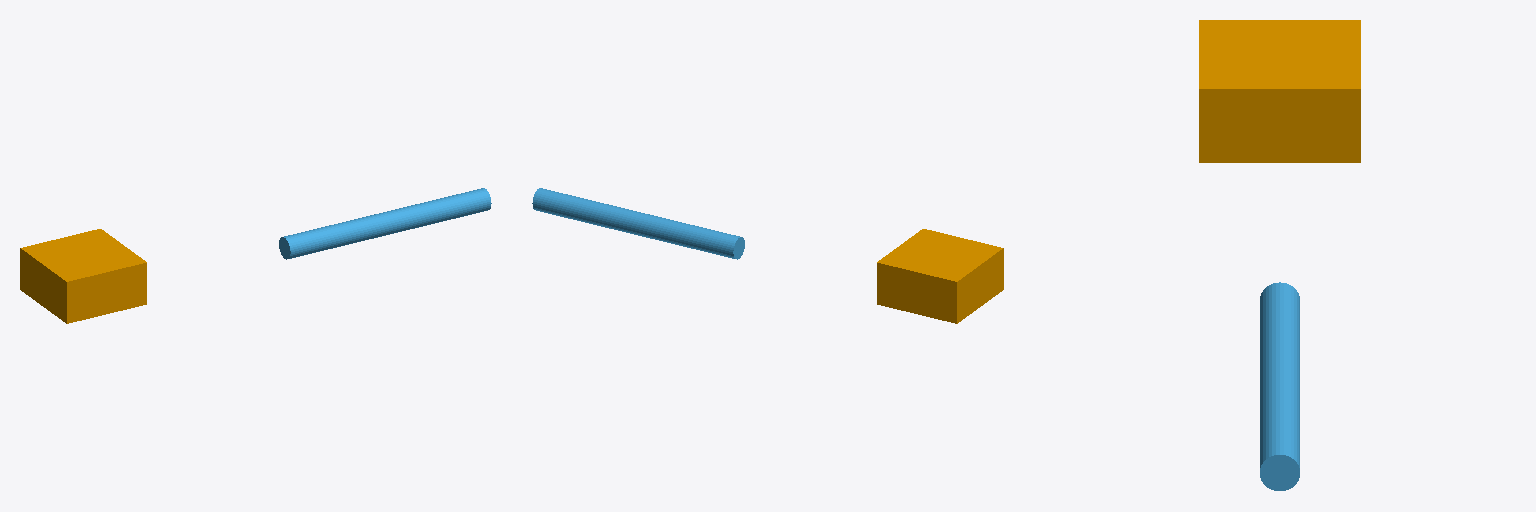
The robot description file, URDF, robot "two_dof_demo":
<?xml version="1.0"?>
<robot name="two_dof_demo">
  <link name="base_link">
    <visual name="base_visual">
      <origin xyz="0 0 0.1" rpy="0 0 0"/>
      <geometry><box size="0.4 0.4 0.2"/></geometry>
    </visual>
    <collision name="base_collision">
      <origin xyz="0 0 0.1" rpy="0 0 0"/>
      <geometry><box size="0.4 0.4 0.2"/></geometry>
    </collision>
  </link>
  <link name="arm_link">
    <inertial>
      <origin xyz="0.5 0 0" rpy="0 0 0"/>
      <mass value="2.0"/>
      <inertia ixx="0.1" ixy="0" ixz="0" iyy="0.2" iyz="0" izz="0.2"/>
    </inertial>
    <visual>
      <origin xyz="0.5 0 0" rpy="0 1.5707963267948966 0"/>
      <geometry><cylinder radius="0.05" length="1.0"/></geometry>
    </visual>
  </link>
  <link name="slider_link">
    <collision>
      <origin xyz="0.1 0 0" rpy="0 0 0"/>
      <geometry><mesh filename="package://demo/slider.stl" scale="1 1 1"/></geometry>
    </collision>
  </link>
  <link name="tool0"/>
  <joint name="shoulder" type="revolute">
    <parent link="base_link"/>
    <child link="arm_link"/>
    <origin xyz="1 0 0" rpy="0 0 0"/>
    <axis xyz="0 0 1"/>
    <limit lower="-3.141592653589793" upper="3.141592653589793" effort="20" velocity="2"/>
  </joint>
  <joint name="slide" type="prismatic">
    <parent link="arm_link"/>
    <child link="slider_link"/>
    <origin xyz="1 0 0" rpy="0 0 0"/>
    <axis xyz="1 0 0"/>
    <limit lower="0" upper="1" effort="10" velocity="1"/>
  </joint>
  <joint name="tool_mount" type="fixed">
    <parent link="slider_link"/>
    <child link="tool0"/>
    <origin xyz="0 0 0.2" rpy="0 0 0"/>
  </joint>
</robot>

--- What the picture shows (computed from the rendered views, not written in the file) ---
The picture shows the robot from 3 angles, left to right: view 1: azimuth 30°, elevation 25°; view 2: azimuth 150°, elevation 25°; view 3: azimuth 270°, elevation 25°; orthographic projection.
Robot: two_dof_demo — 4 links, 3 joints (1 revolute, 1 prismatic, 1 fixed); root link base_link; default pose: every joint at zero.
Links seen in each view (by area): view 1: base_link, arm_link; view 2: base_link, arm_link; view 3: base_link, arm_link.
Link boxes in pixels (x1=…): base_link: x1=20, y1=229, x2=146, y2=323; arm_link: x1=279, y1=188, x2=491, y2=259; base_link: x1=877, y1=229, x2=1003, y2=323; arm_link: x1=532, y1=188, x2=744, y2=259; base_link: x1=1199, y1=20, x2=1360, y2=162; arm_link: x1=1260, y1=282, x2=1299, y2=490.
Size in the robot's own frame: 2.2 by 0.4 by 0.25 metres.
Geometry: primitives only (box / cylinder / sphere), no mesh files.
